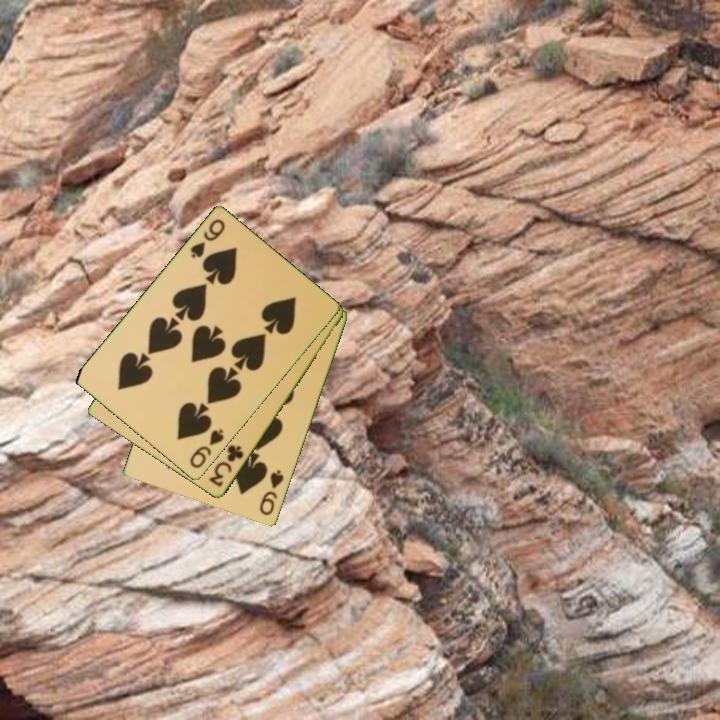3c: (205, 441, 247, 490)
9s: (186, 425, 227, 472), (187, 215, 228, 262), (256, 466, 287, 519)
